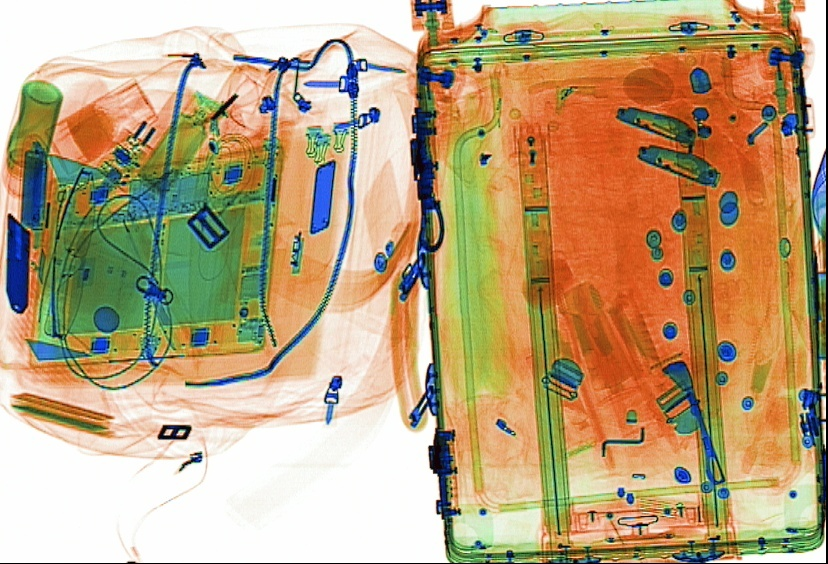knife: (634, 142, 721, 188), (613, 105, 697, 149)
powerbank: (17, 133, 57, 233)
